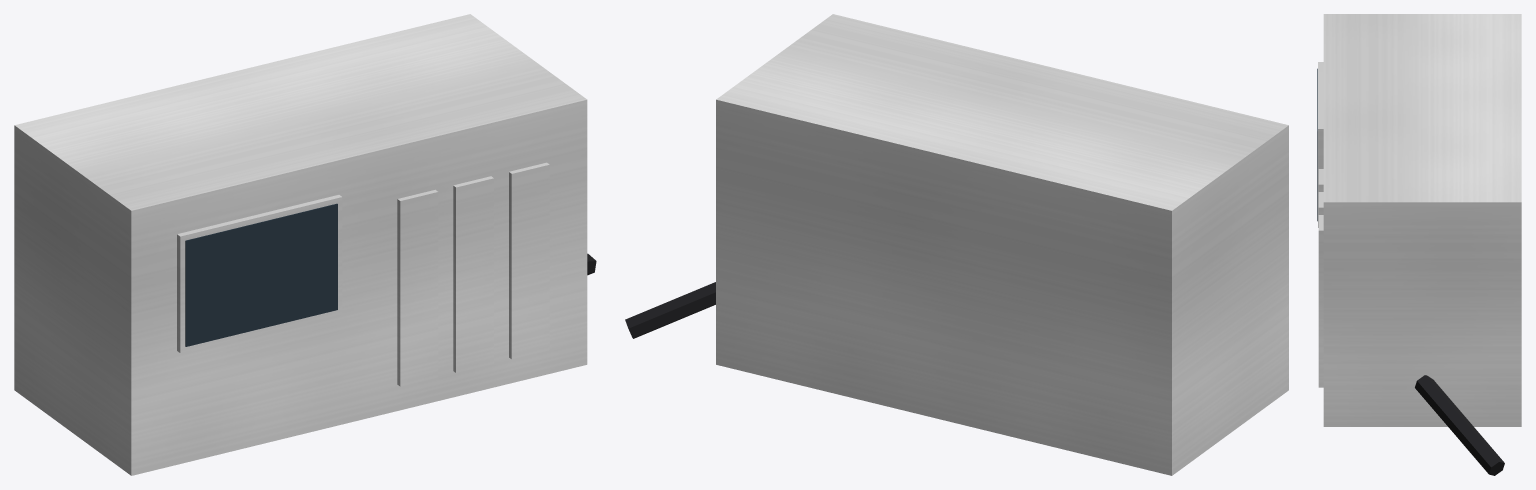
Rendered from ruin_machine.obj.
3 renders of one model, left to right at view 1: azimuth 30°, elevation 25°; view 2: azimuth 150°, elevation 25°; view 3: azimuth 270°, elevation 25°, orthographic. The views are drawn at different scales.
Visible parts, largest first — view 1: ruin_machine; view 2: ruin_machine; view 3: ruin_machine.
Part boxes in pixels (<box>): ruin_machine: <box>14,14,596,475</box>; ruin_machine: <box>625,14,1288,475</box>; ruin_machine: <box>1317,14,1521,475</box>.
Bounding box in the file's own units: 2.23 × 1.04 × 0.826.
